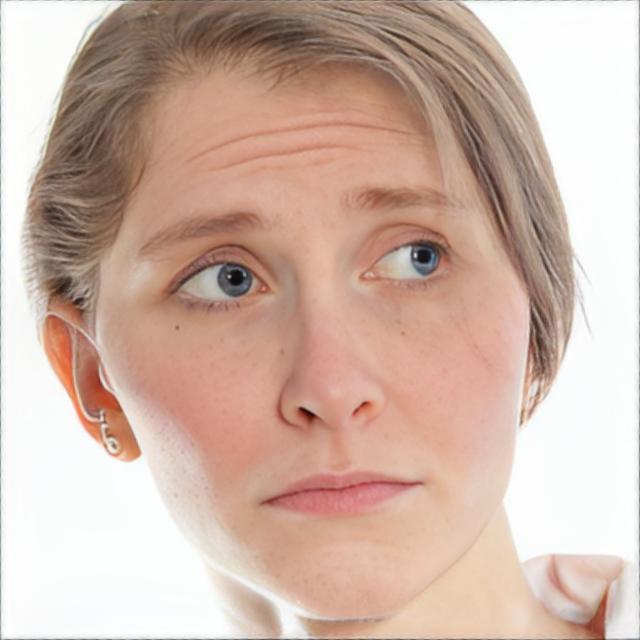fear: (98, 28, 531, 621)
